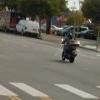Motorcycle: (56, 29, 84, 69)
